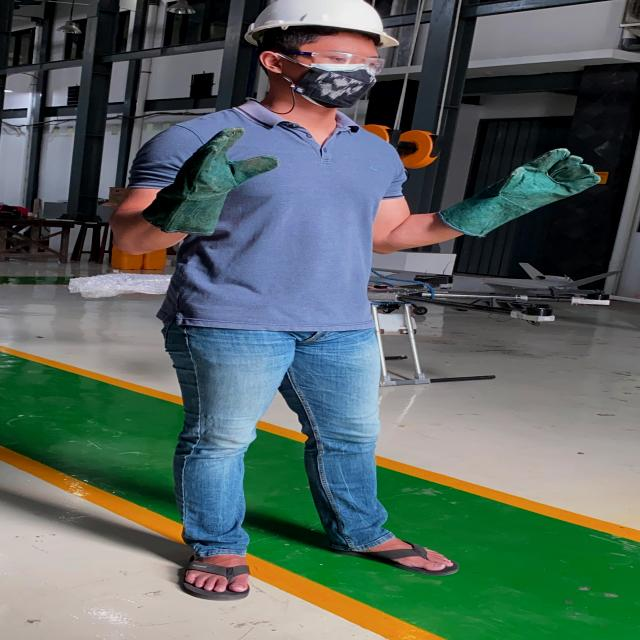face_mask: (283, 46, 391, 104)
glasses: (272, 49, 393, 77)
hand_glove: (163, 126, 290, 202), (493, 146, 611, 213)
head_helmet: (238, 1, 412, 48)
person: (113, 0, 525, 605)
